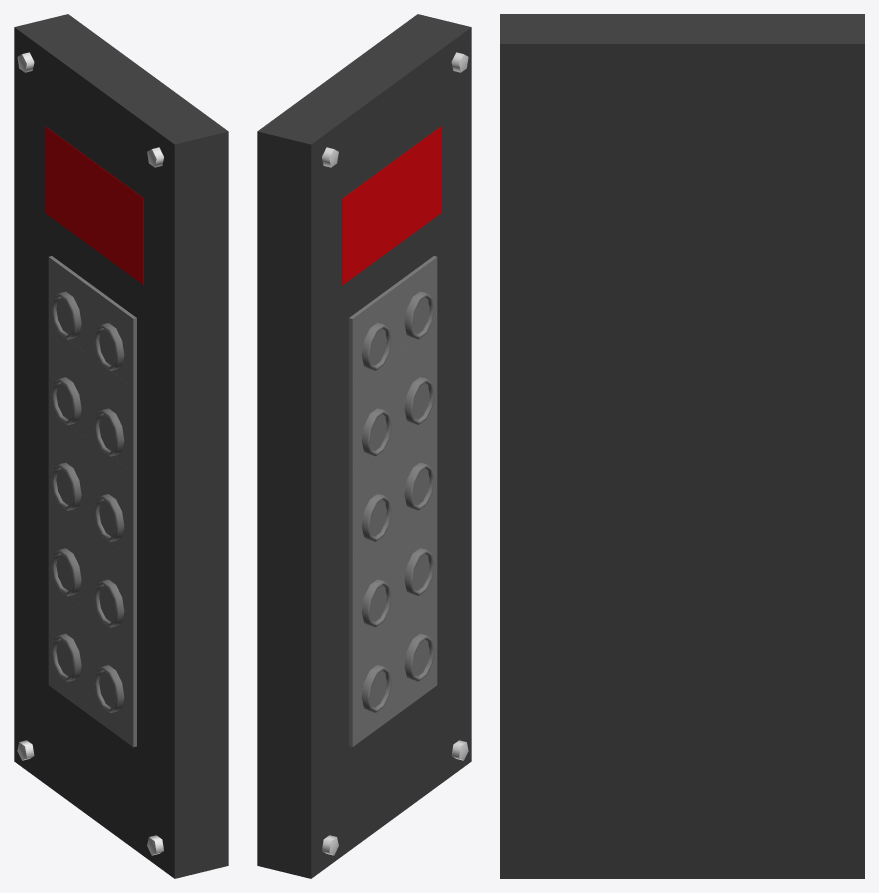
The model's file is Elevator Panel.fbx.
3 renders of one model, left to right at view 1: azimuth 30°, elevation 25°; view 2: azimuth 150°, elevation 25°; view 3: azimuth 270°, elevation 25°, orthographic. The views are drawn at different scales.
Visible parts, largest first — view 1: Panel, Panel.002, Circle.007, Panel.001, Panel.003, Bolt; view 2: Panel, Panel.002, Circle.007, Panel.001, Panel.003, Bolt; view 3: Panel.
Part boxes in pixels (box(x1,y1,x2,y2)): Panel: box(14, 14, 228, 878); Panel.002: box(48, 256, 136, 747); Circle.007: box(51, 291, 124, 712); Panel.001: box(44, 126, 143, 285); Panel.003: box(54, 278, 127, 725); Bolt: box(17, 52, 163, 855); Panel: box(257, 14, 471, 878); Panel.002: box(349, 256, 437, 747); Circle.007: box(361, 291, 434, 712); Panel.001: box(342, 126, 441, 285); Panel.003: box(358, 278, 431, 725); Bolt: box(322, 52, 468, 855); Panel: box(500, 14, 864, 878).
Size of the model in its own units: 56.32 by 616 by 244.
